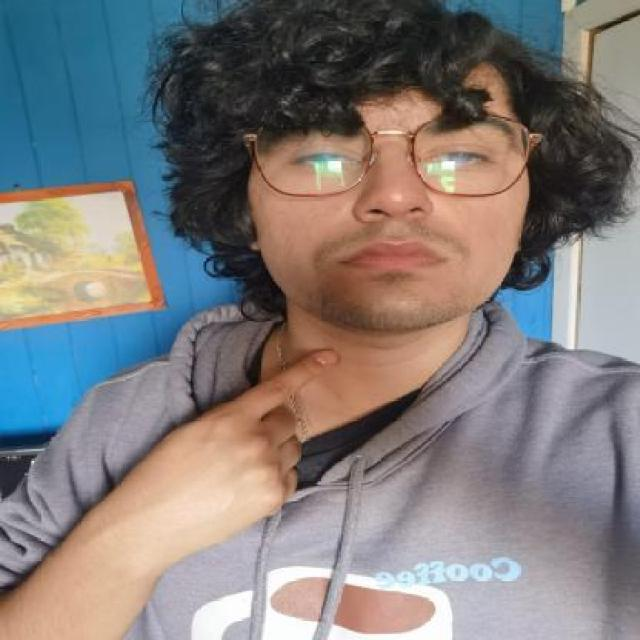Q: (105, 348, 342, 548)
